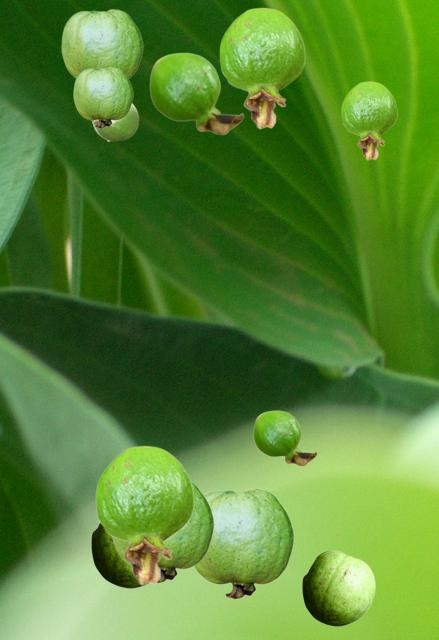guava: (95, 445, 193, 584), (193, 488, 293, 598), (111, 481, 213, 582), (219, 7, 304, 128), (149, 52, 243, 134), (61, 9, 142, 78), (302, 550, 374, 625), (341, 81, 396, 159), (91, 523, 148, 587), (73, 67, 132, 127), (253, 410, 316, 465), (91, 103, 138, 140)
